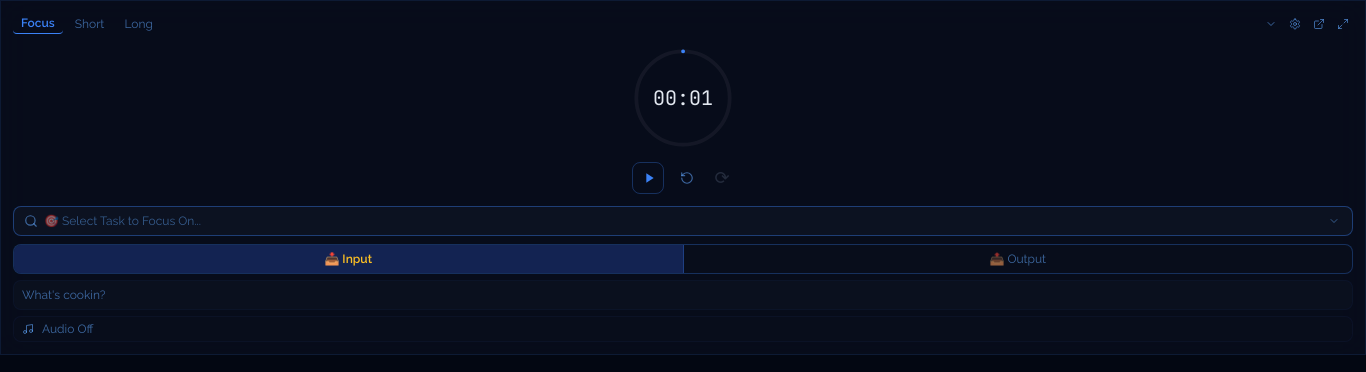
Scenario: PomodoroTimer › allows setting a custom focus topic when searching with no matches
This screenshot has width=1366, height=372.
Type "Quantum Gravity" into the dropdown at (682, 221), box [44,213,1320,229]
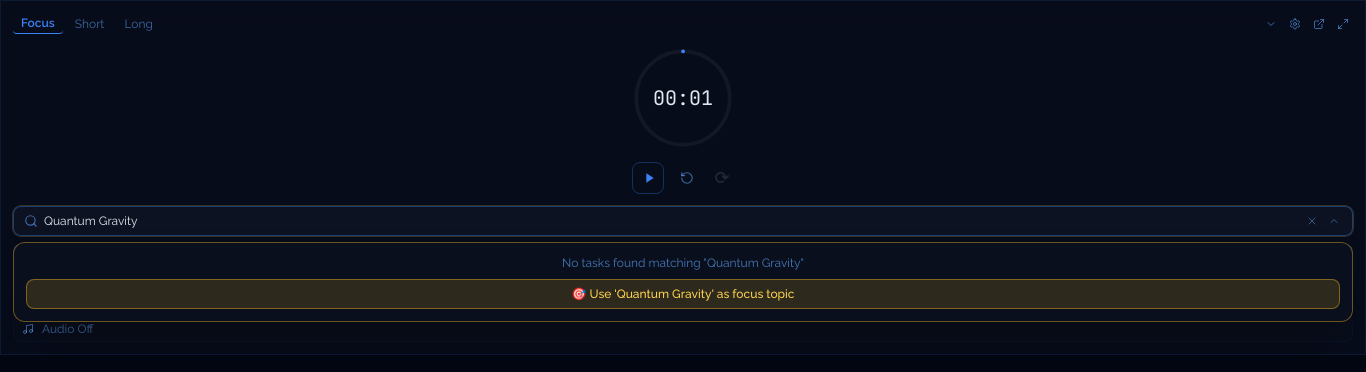
Check: the button "🎯 Use 'Quantum Gravity' as focus topic" is shown
Click the button "🎯 Use 'Quantum Gravity' as focus topic" at (683, 294), box [26,279,1340,309]
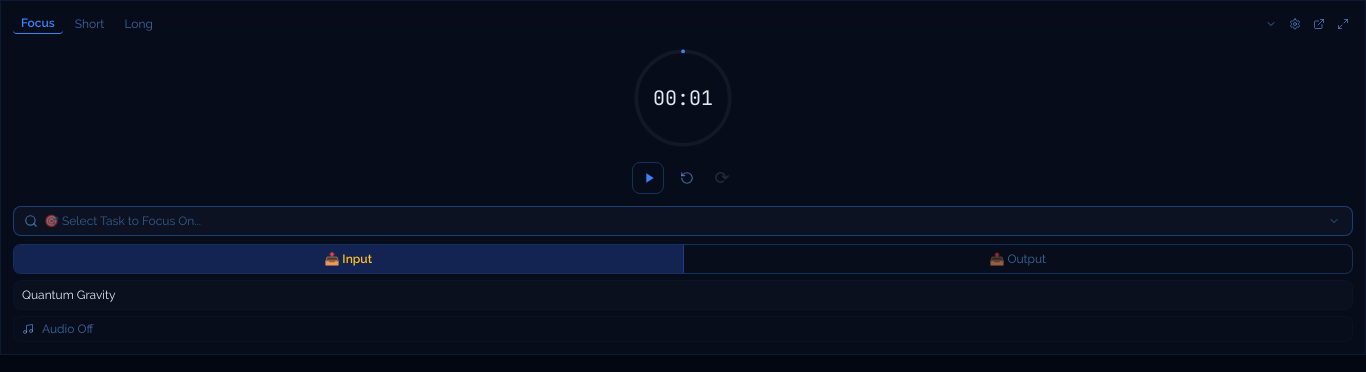
Check: the field with placeholder "What's cookin?" holds "Quantum Gravity", box [13,280,1353,310]
